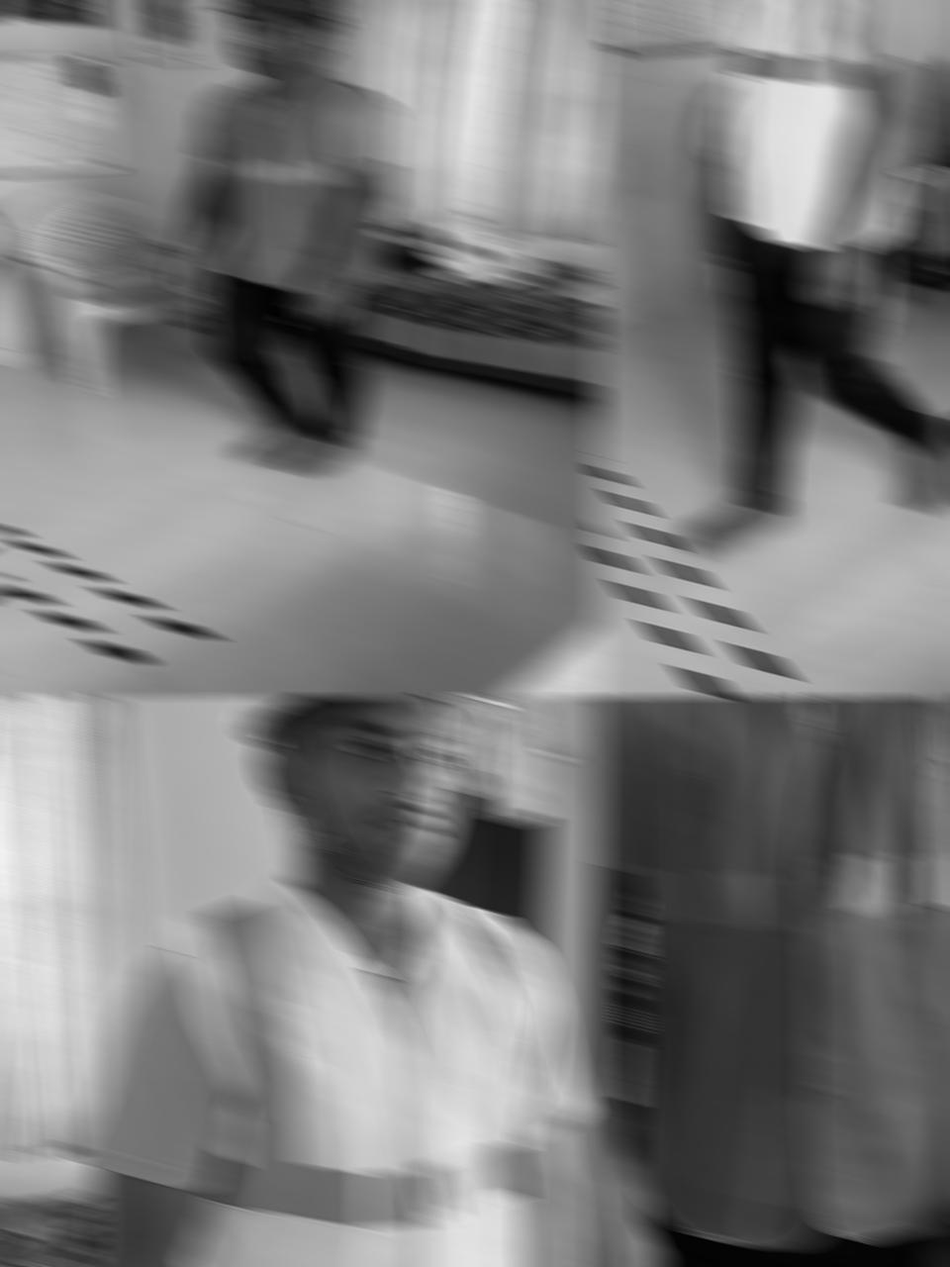BorderLine: (592, 454, 844, 698), (0, 520, 221, 670)
Helmet: (235, 695, 510, 892), (205, 0, 349, 24)
Person: (70, 695, 595, 1267), (592, 695, 950, 1267), (682, 0, 950, 555), (167, 0, 401, 476)
Vest: (609, 695, 950, 1249), (165, 877, 554, 1267), (720, 0, 928, 250), (198, 66, 398, 291)
